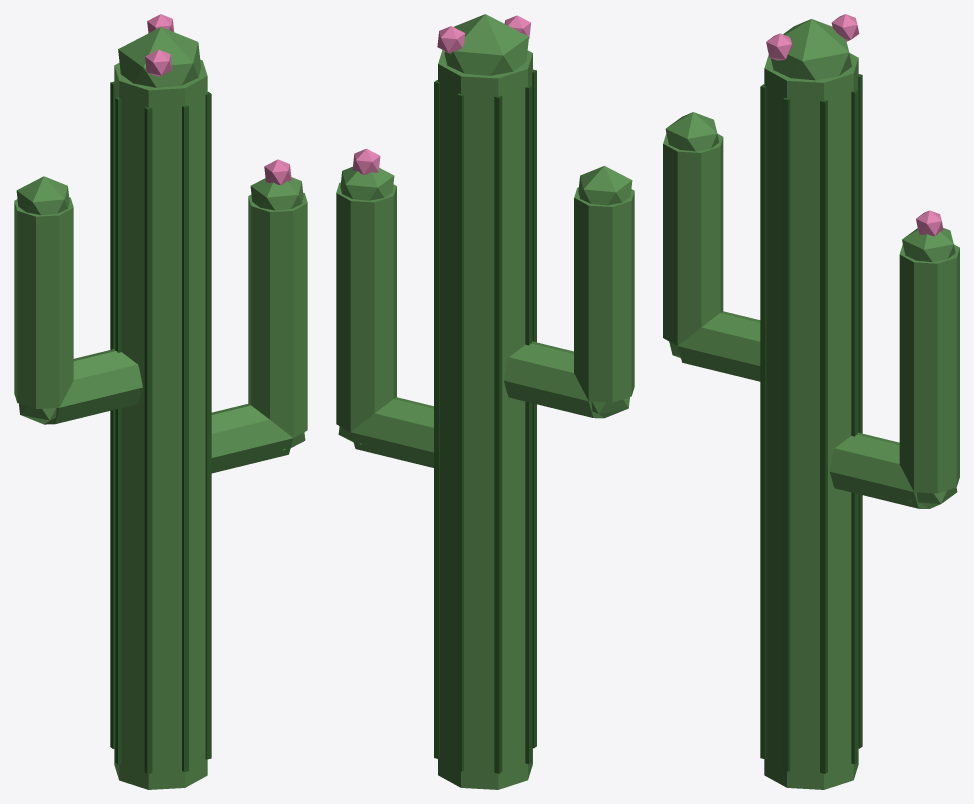
File: arbre_desert_3.glb
3 views of the same model, side by side, from view 1: azimuth 30°, elevation 25°; view 2: azimuth 150°, elevation 25°; view 3: azimuth 330°, elevation 25° (orthographic).
Parts seen in each view (by area): view 1: fut.002, cactus_cactus.004, cactus_feuille_sombre.002, cactus_rose.004; view 2: fut.002, cactus_cactus.004, cactus_feuille_sombre.002, cactus_rose.004; view 3: fut.002, cactus_cactus.004, cactus_feuille_sombre.002, cactus_rose.004.
Boxes of the visible parts, box(x1,y1,x2,y2) form: fut.002: box(114, 60, 207, 789); cactus_cactus.004: box(14, 27, 307, 473); cactus_feuille_sombre.002: box(110, 81, 211, 773); cactus_rose.004: box(145, 14, 291, 185); fut.002: box(438, 50, 532, 789); cactus_cactus.004: box(336, 14, 634, 467); cactus_feuille_sombre.002: box(434, 69, 536, 773); cactus_rose.004: box(352, 15, 530, 174); fut.002: box(764, 53, 858, 789); cactus_cactus.004: box(663, 19, 959, 508); cactus_feuille_sombre.002: box(760, 74, 862, 773); cactus_rose.004: box(766, 14, 943, 236).
Size of the model in its own units: 1.72 by 4.25 by 0.53.
